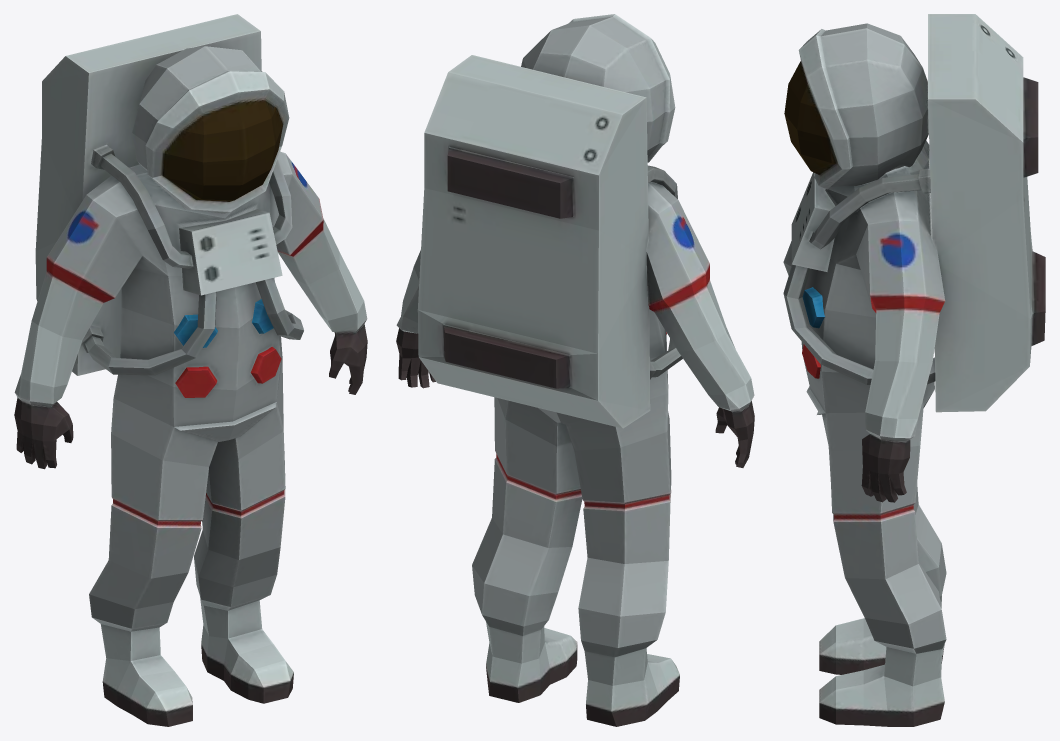
Rendered from dLHpzNdygsg.glb.
The picture shows the model from 3 angles, left to right: view 1: azimuth 30°, elevation 25°; view 2: azimuth 150°, elevation 25°; view 3: azimuth 270°, elevation 25°; orthographic projection.
Parts seen in each view (by area): view 1: Astronaut_mesh; view 2: Astronaut_mesh; view 3: Astronaut_mesh.
Part boxes in pixels (bbox=[...]): Astronaut_mesh: bbox=[14, 14, 367, 726]; Astronaut_mesh: bbox=[396, 14, 754, 726]; Astronaut_mesh: bbox=[783, 14, 1045, 726].
Bounding box in the file's own units: 0.5568 × 1 × 0.3598.
Materials: 1 (1 with a texture image).
